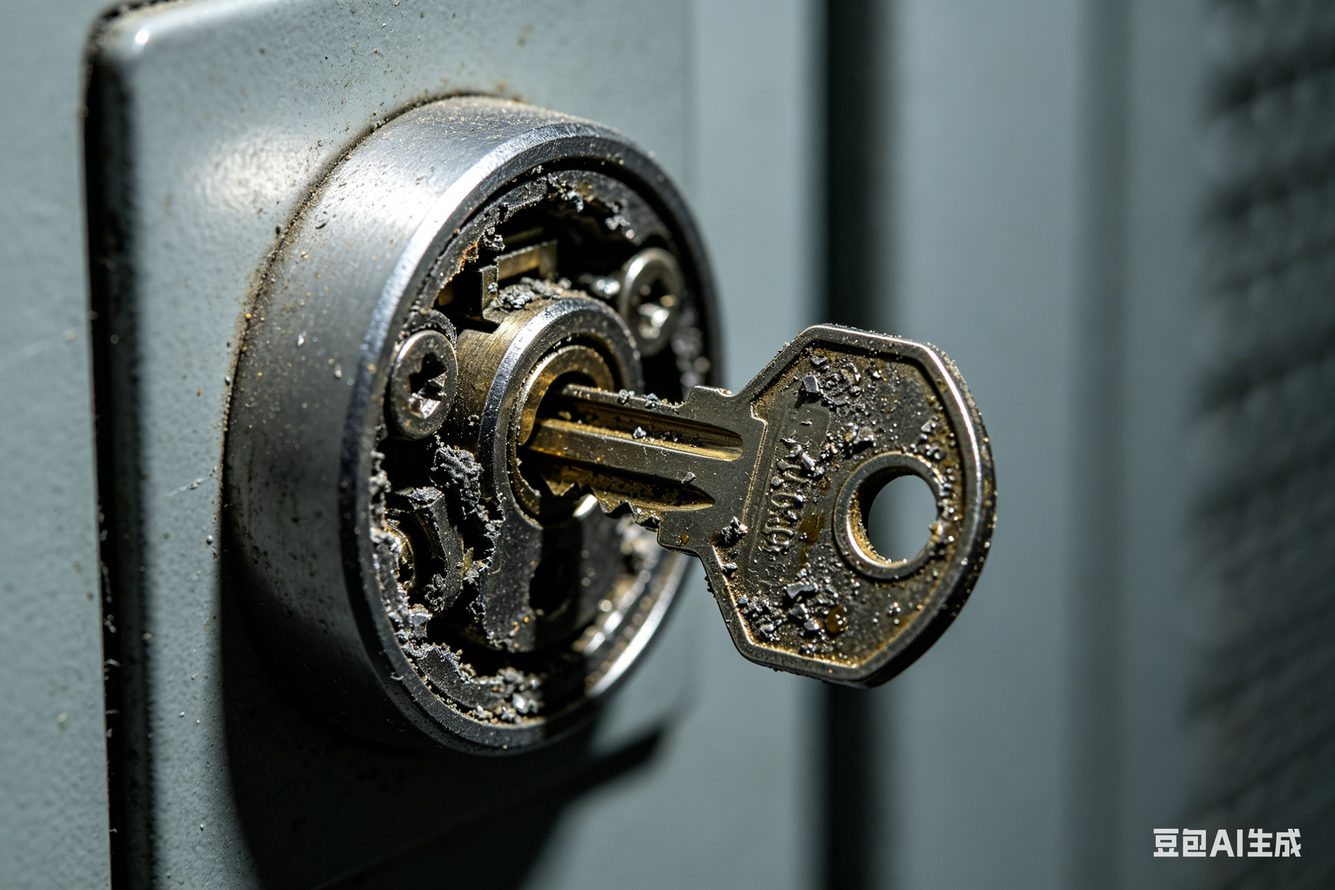BadLock: (384, 171, 732, 696)
